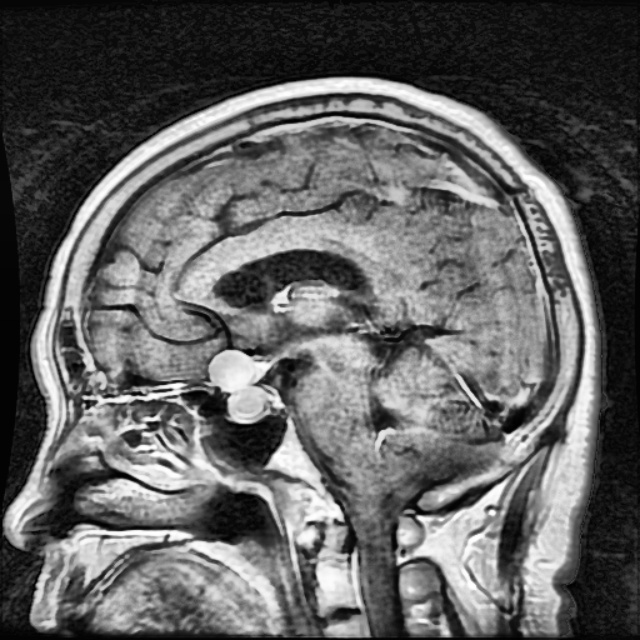Pituitary: (208, 349, 268, 420)
